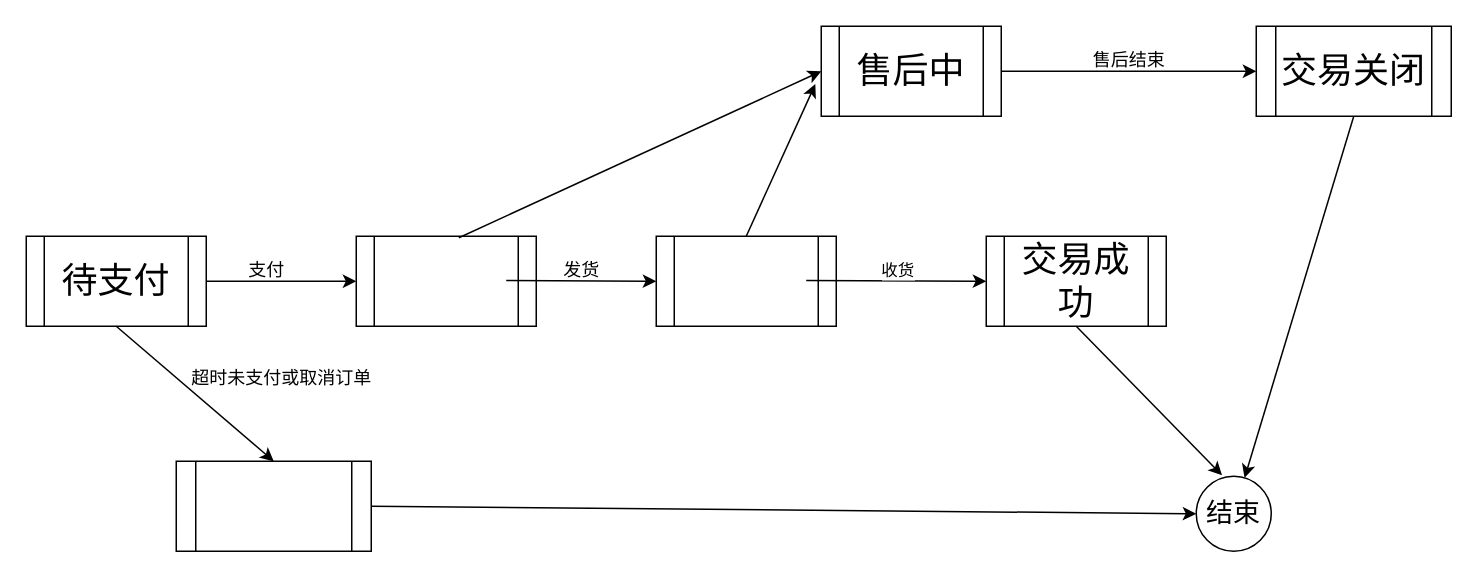
Some shapes in this 1478 by 578 pixel diagram are drawn without their labels. Here are the shapes that lost their labels. From the top down, the centre of each, then its label:
the point at 445,280: 待发货
the point at 745,280: 待收货
the point at 273,505: 已取消
